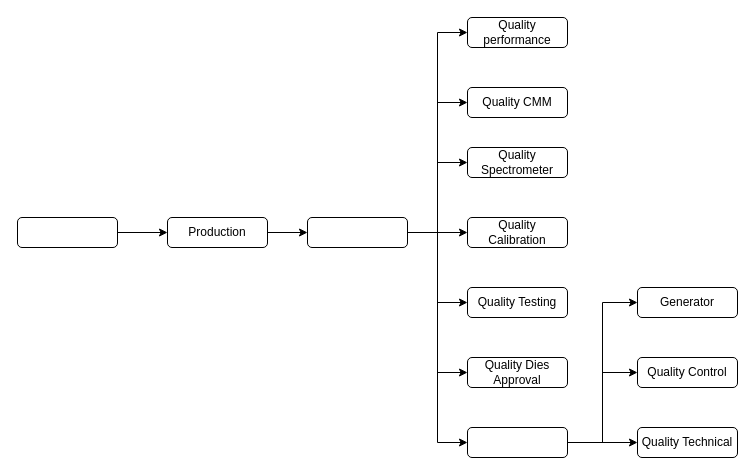
Image size: 755x475. Some labels were removed from this diagram. Here are the shapes that lost their labels. From the top down, the centre of each, then its label:
At [67,232]: "Login".
At [357,232]: "Quality Menu".
At [517,442]: "e-Forms".
